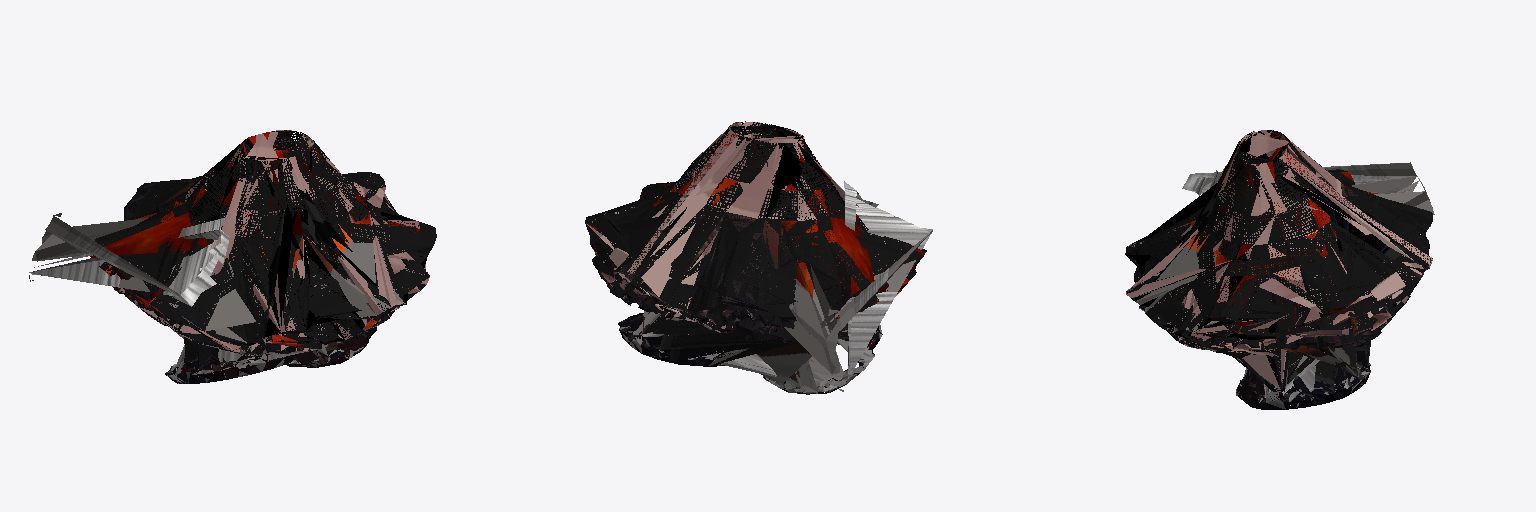
3 views of the same model, side by side, from view 1: azimuth 30°, elevation 25°; view 2: azimuth 150°, elevation 25°; view 3: azimuth 270°, elevation 25° (orthographic).
Parts seen in each view (by area): view 1: Model001_25_PoporiFHair11MI_0.3_0_0, Model001_25_PCEvent26PoporiFRareSkel1nPart!_0.5_0_0, Model001_25_PCEvent26PoporiFRareTransMI_1_0_0, Model001_25_PCEvent26PoporiFRareSkel(1)1nPart!_0.5_0_0, Model001_25_PoporiFFace10MI_0.3_0_0, Model001_24_PoporiFBaseBodyMI_0.3_0_0, Model001_25_PCEvent26PoporiFRareMI_1_0_0; view 2: Model001_25_PoporiFHair11MI_0.3_0_0, Model001_25_PCEvent26PoporiFRareTransMI_1_0_0, Model001_25_PCEvent26PoporiFRareSkel(1)1nPart!_0.5_0_0, Model001_25_PCEvent26PoporiFRareSkel1nPart!_0.5_0_0, Model001_25_PoporiFFace10MI_0.3_0_0, Model001_24_PoporiFBaseBodyMI_0.3_0_0; view 3: Model001_25_PCEvent26PoporiFRareTransMI_1_0_0, Model001_25_PCEvent26PoporiFRareSkel(1)1nPart!_0.5_0_0, Model001_25_PoporiFFace10MI_0.3_0_0, Model001_25_PCEvent26PoporiFRareSkel1nPart!_0.5_0_0, Model001_25_PoporiFHair11MI_0.3_0_0, Model001_24_PoporiFBaseBodyMI_0.3_0_0.
Part boxes in pixels (x1,y1,x2,y2): Model001_25_PoporiFHair11MI_0.3_0_0: (29, 130, 419, 383); Model001_25_PCEvent26PoporiFRareSkel1nPart!_0.5_0_0: (95, 131, 436, 383); Model001_25_PCEvent26PoporiFRareTransMI_1_0_0: (96, 131, 436, 383); Model001_25_PCEvent26PoporiFRareSkel(1)1nPart!_0.5_0_0: (102, 130, 432, 382); Model001_25_PoporiFFace10MI_0.3_0_0: (115, 130, 429, 357); Model001_24_PoporiFBaseBodyMI_0.3_0_0: (120, 138, 427, 351); Model001_25_PCEvent26PoporiFRareMI_1_0_0: (195, 142, 310, 341); Model001_25_PoporiFHair11MI_0.3_0_0: (586, 125, 932, 394); Model001_25_PCEvent26PoporiFRareTransMI_1_0_0: (585, 121, 926, 394); Model001_25_PCEvent26PoporiFRareSkel(1)1nPart!_0.5_0_0: (591, 122, 922, 366); Model001_25_PCEvent26PoporiFRareSkel1nPart!_0.5_0_0: (589, 122, 922, 366); Model001_25_PoporiFFace10MI_0.3_0_0: (587, 122, 899, 332); Model001_24_PoporiFBaseBodyMI_0.3_0_0: (623, 128, 844, 331); Model001_25_PCEvent26PoporiFRareTransMI_1_0_0: (1125, 131, 1432, 409); Model001_25_PCEvent26PoporiFRareSkel(1)1nPart!_0.5_0_0: (1126, 130, 1428, 409); Model001_25_PoporiFFace10MI_0.3_0_0: (1126, 130, 1432, 389); Model001_25_PCEvent26PoporiFRareSkel1nPart!_0.5_0_0: (1126, 130, 1428, 409); Model001_25_PoporiFHair11MI_0.3_0_0: (1126, 131, 1434, 409); Model001_24_PoporiFBaseBodyMI_0.3_0_0: (1127, 130, 1395, 352).
Size of the model in its own units: 0.4753 by 0.3471 by 0.4147.
Materials: 9 (4 with a texture image).